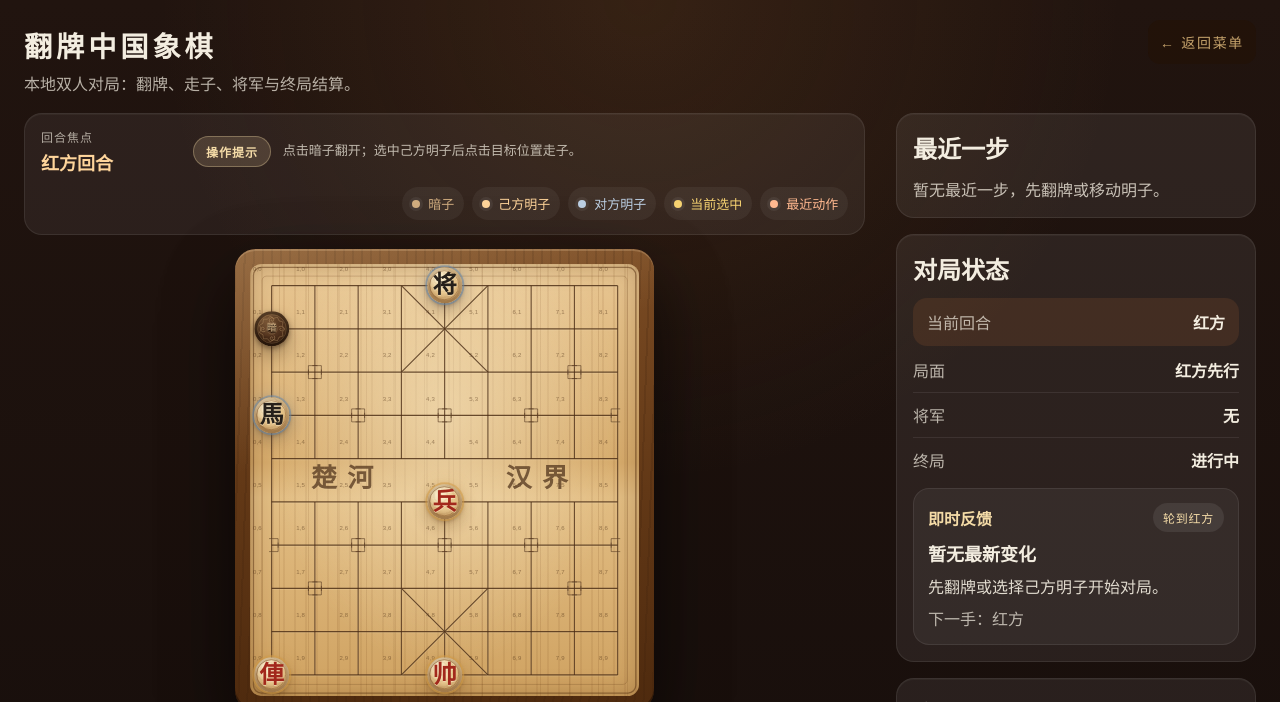
interaction feedback › marks legal empty targets and capturable pieces when a revealed piece is selected
Click the button with test id "cell-0-9" at (272, 675), box [250, 653, 293, 696]
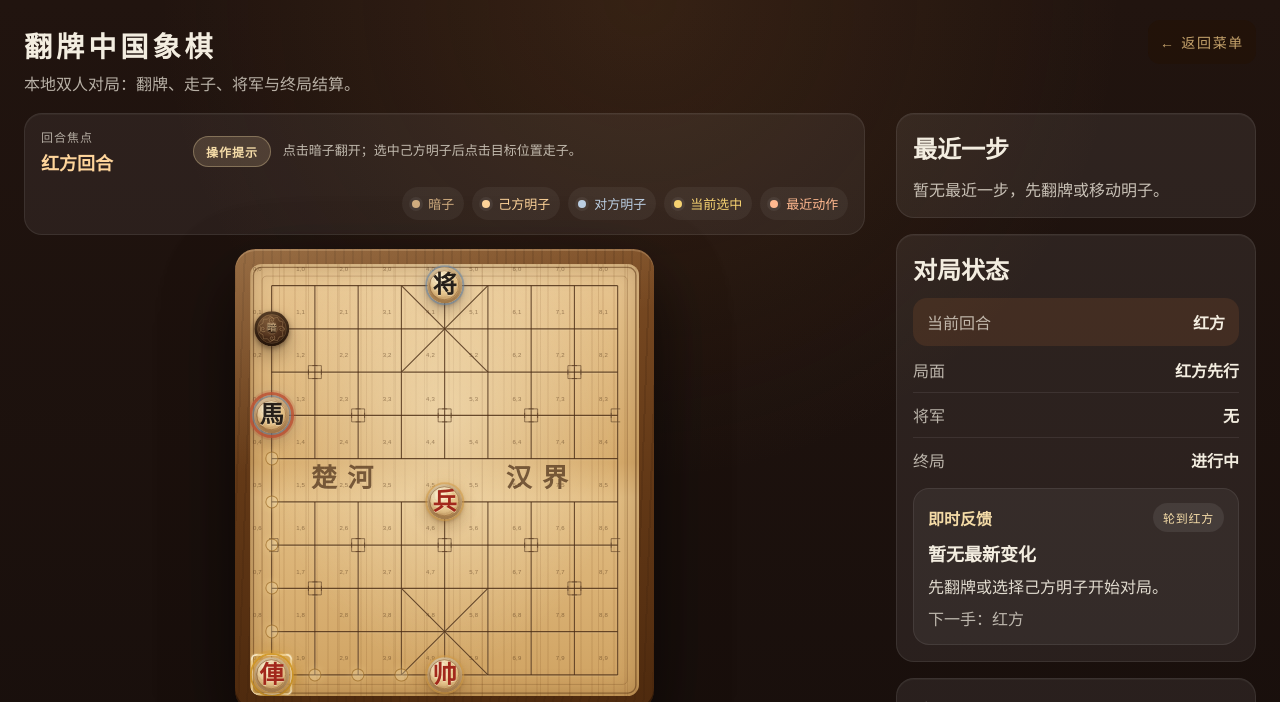
Expected: the number of elements with class "legal-move-empty" is 8
Expected: the number of elements with class "legal-move-capture" is 1, [250, 392, 294, 438]
